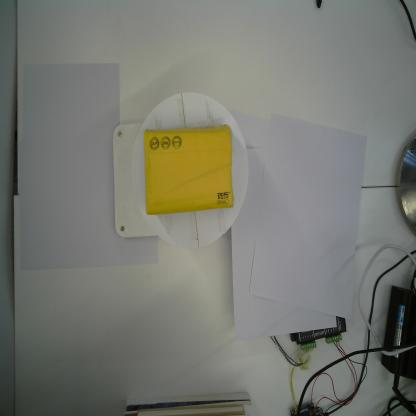Tissue: (143, 124, 235, 216)
